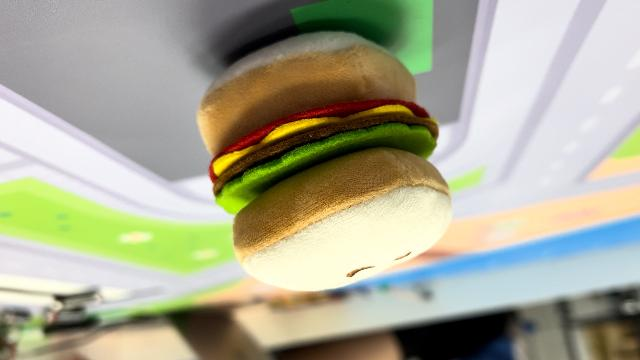sandwich: (193, 30, 454, 292)
